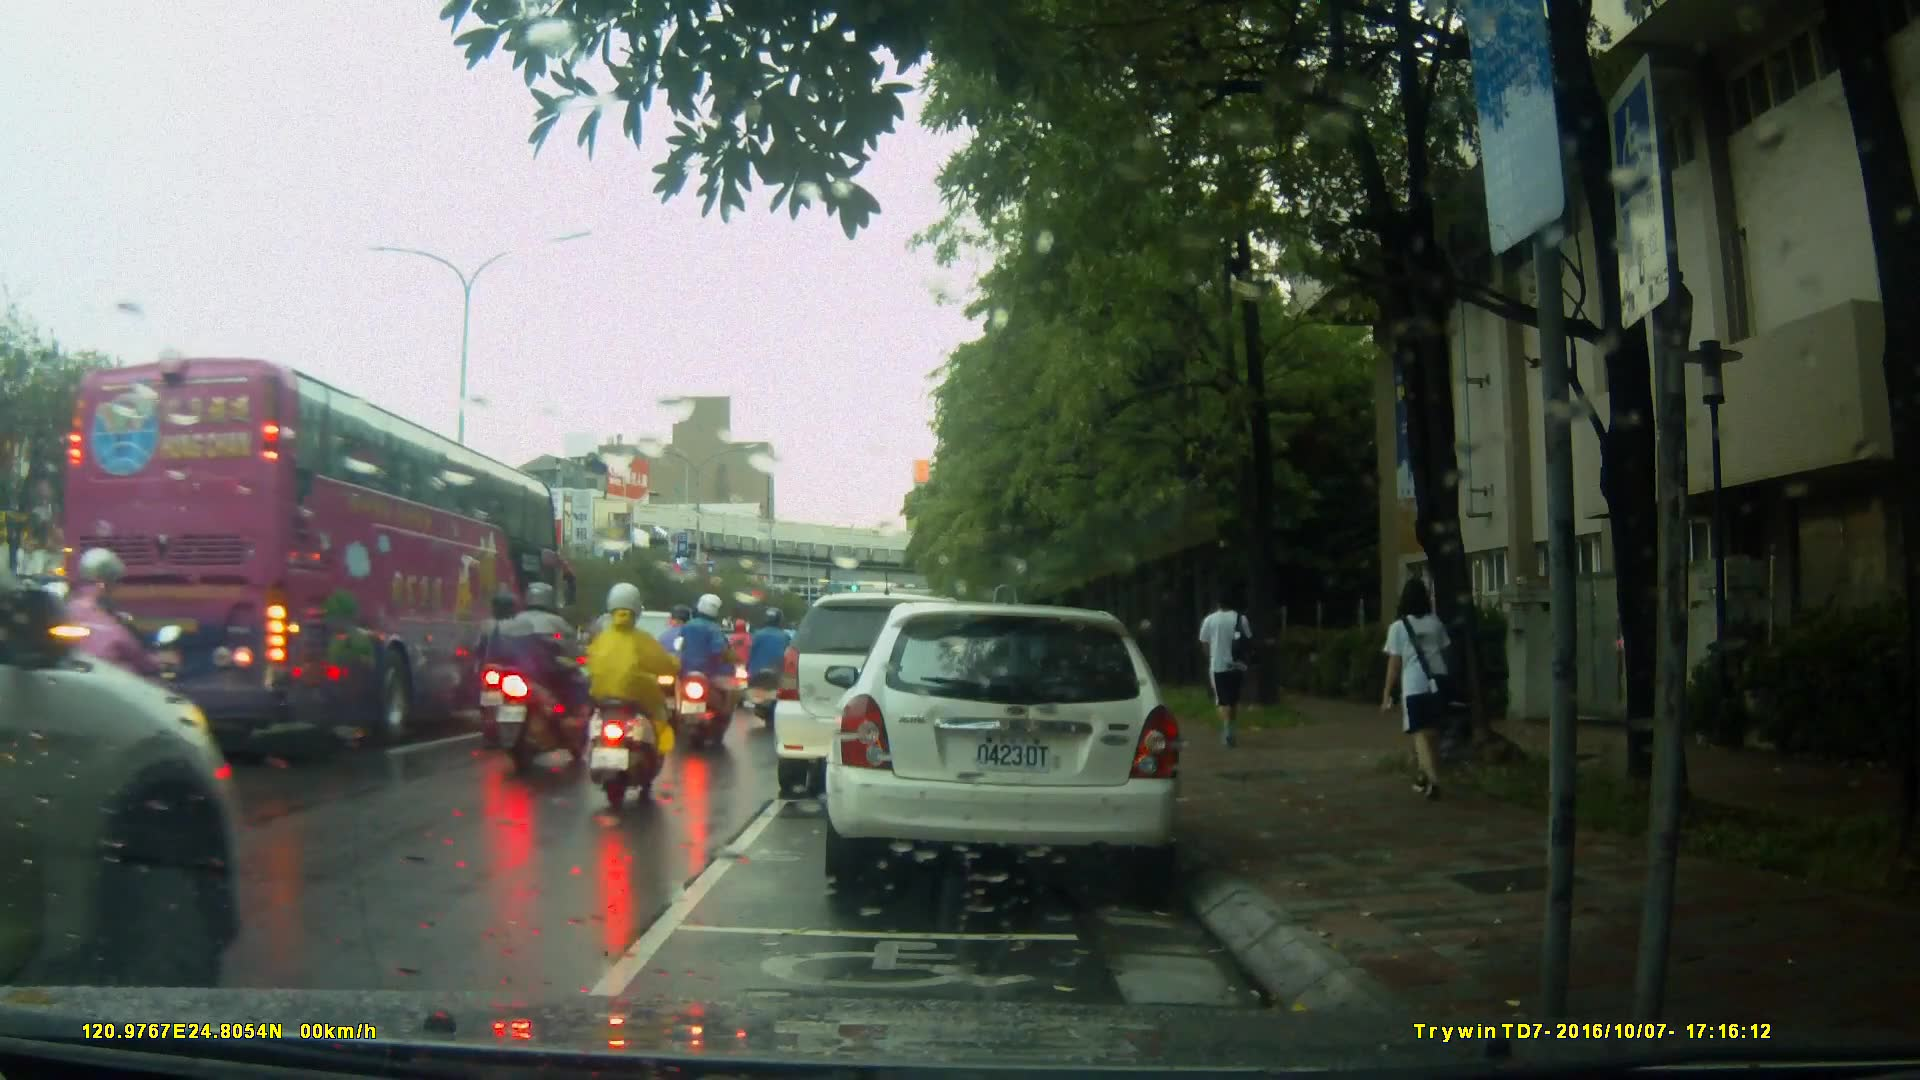pedestrian: (1370, 573, 1457, 806), (1185, 580, 1249, 752)
rider: (31, 542, 183, 854), (590, 584, 679, 814), (500, 577, 593, 772), (673, 589, 736, 766), (474, 592, 540, 751), (744, 606, 808, 736), (659, 598, 707, 725), (722, 617, 763, 697)
vehicle: (37, 353, 559, 745), (835, 594, 1194, 898), (776, 590, 1026, 784), (574, 609, 723, 734)
